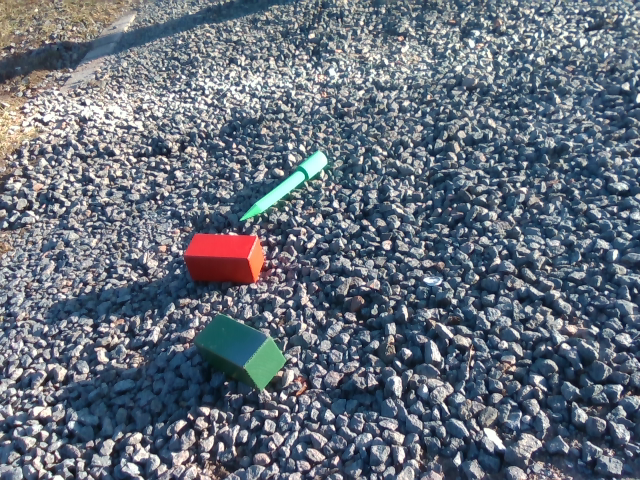Probe: (237, 151, 331, 226)
